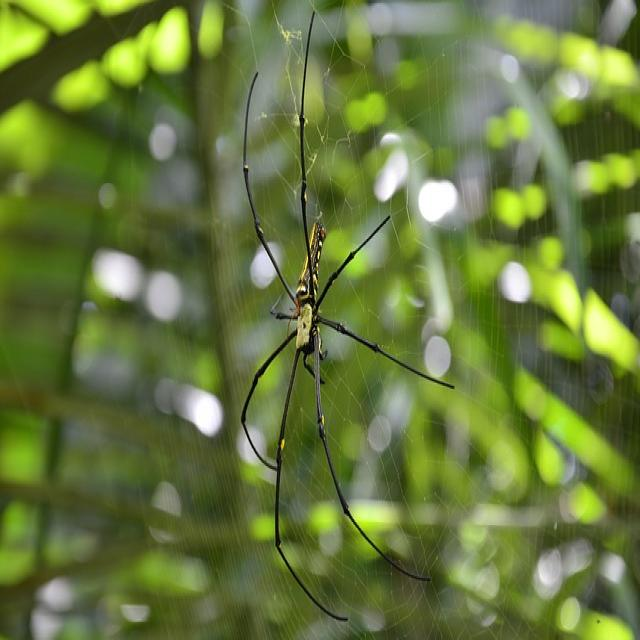spyder: (241, 13, 450, 619)
